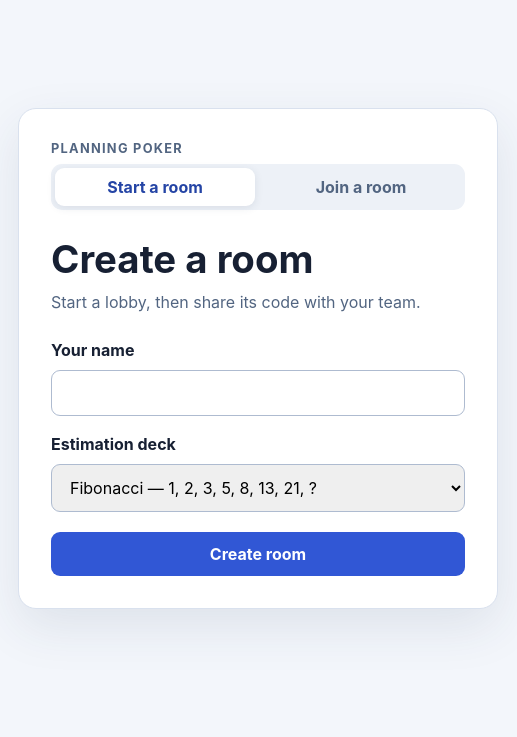
Test: room entry › creates a room and displays its lobby
This screenshot has width=517, height=737.
Type "  Alex  " into the field labelled "Your name". click: (258, 392)
box: [51, 370, 465, 416]
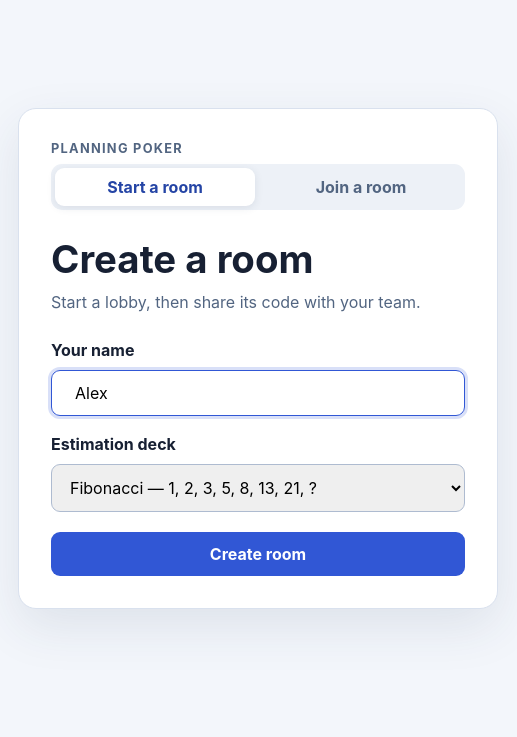
Click the button "Create room". click: (258, 554)
box: [51, 532, 465, 576]
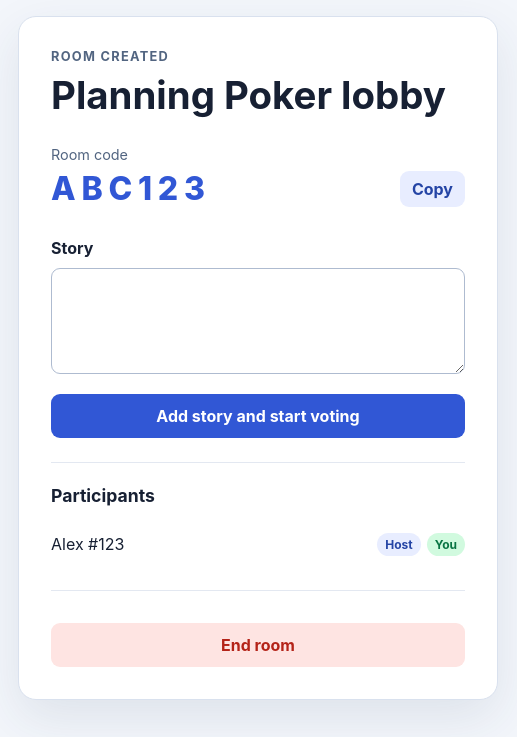
Expected: the heading "Planning Poker lobby" is shown, [51, 72, 465, 118]
Expected: the text "ABC123" is shown, [51, 169, 211, 208]
Expected: the text "Alex #123" is shown, [51, 534, 124, 554]
